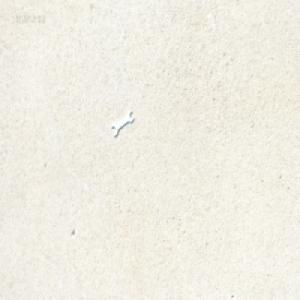Wrench: (111, 109, 133, 137)
